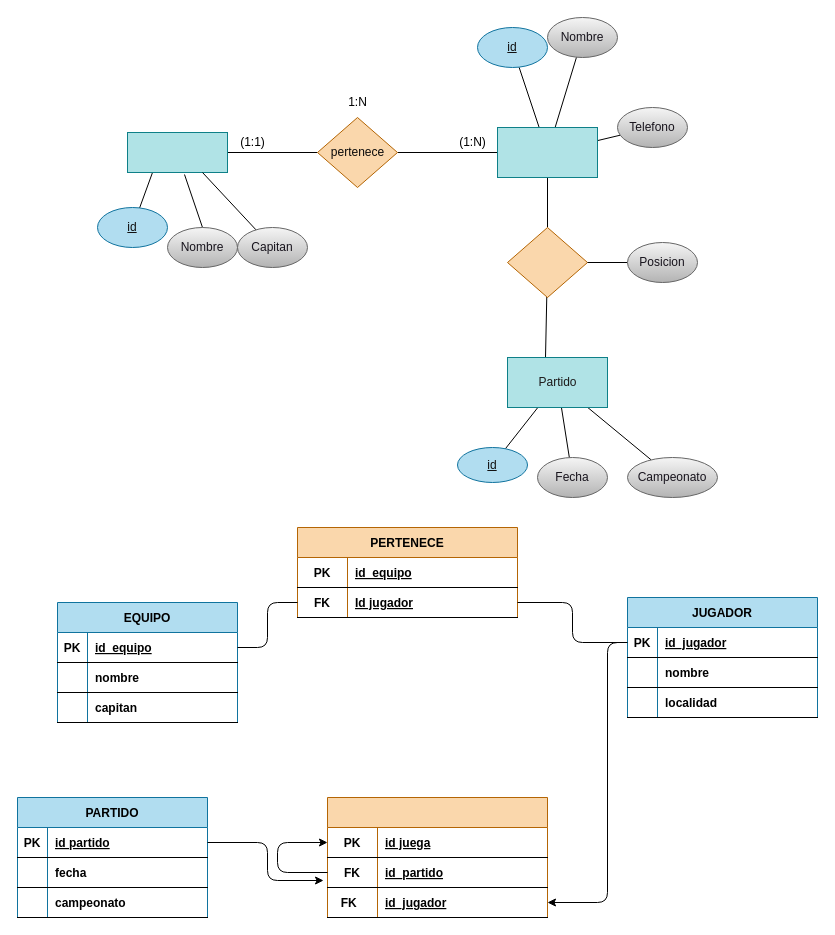
Some shapes in this 835 by 935 pixel diagram are drawn without their labels. Here are the shapes that lost their labels. From the top down, the box of each, then its label:
(126, 132, 228, 172): Equipos
(496, 126, 598, 178): Jugadores
(506, 226, 588, 298): juega
(326, 796, 548, 918): JUEGA_PARTIDO
